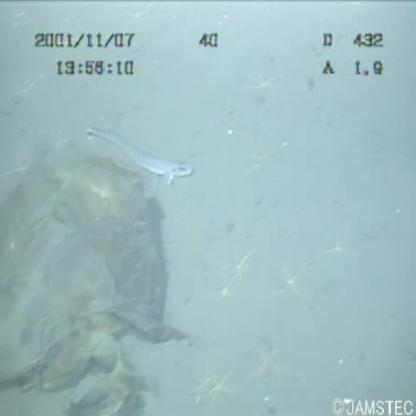Bio: (85, 119, 198, 183)
Rác: (1, 114, 200, 416)
